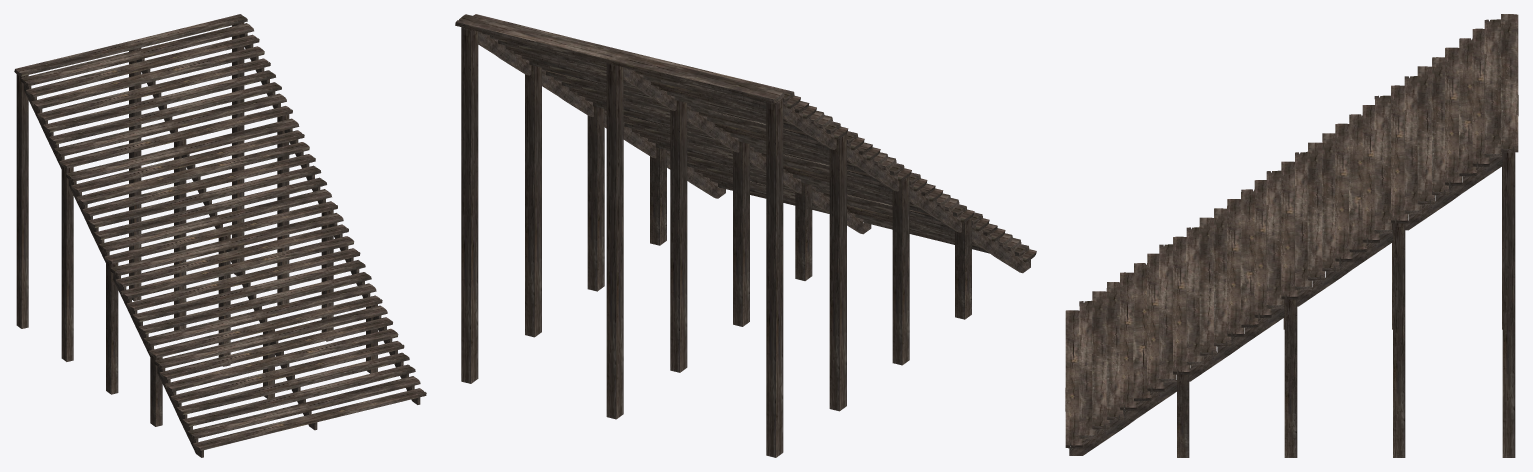
File: jav_prp_stairs_a_xl_xtrawide-transformed.glb
The picture shows the model from 3 angles, left to right: view 1: azimuth 30°, elevation 25°; view 2: azimuth 150°, elevation 25°; view 3: azimuth 270°, elevation 25°; orthographic projection. The views are drawn at different scales.
Visible parts, largest first — view 1: default; view 2: default; view 3: default.
Boxes of the visible parts, bbox=[...] form: default: bbox=[14, 14, 426, 457]; default: bbox=[455, 14, 1036, 457]; default: bbox=[1065, 14, 1518, 457].
Size of the model in its own units: 8.5 by 9.13 by 12.04.
Materials: 1 (1 with a texture image).
